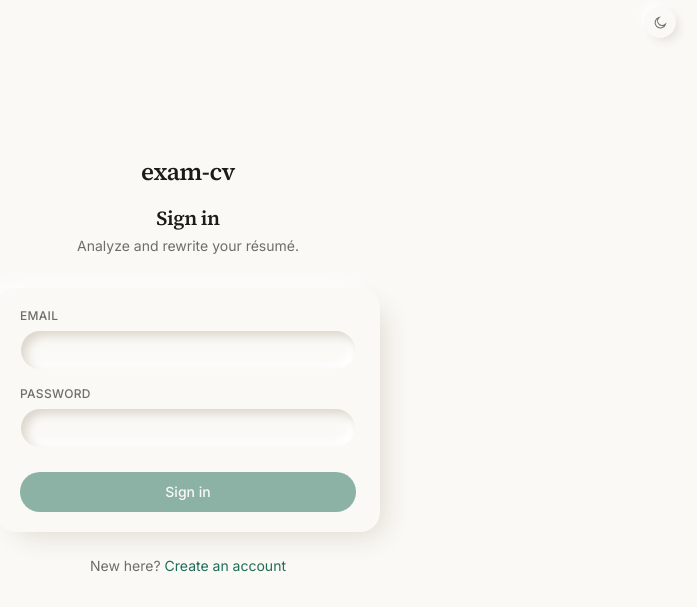
Login › shows the rejection message when credentials are invalid
Type "ada@example.com" into the field labelled "Email" at [188, 350], box [20,330,356,370]
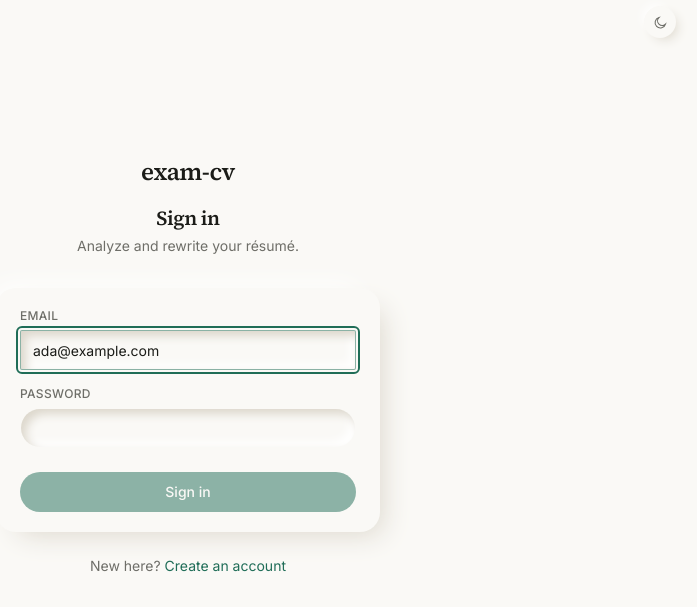
Type "wrong" into the password field labelled "Password" at [188, 428], box [20,408,356,448]
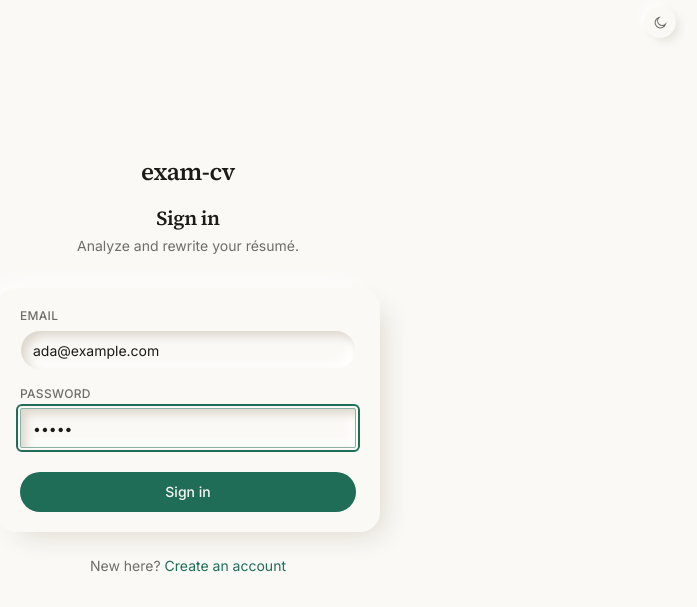
Click the button "Sign in" at [188, 492], box [20,472,356,512]
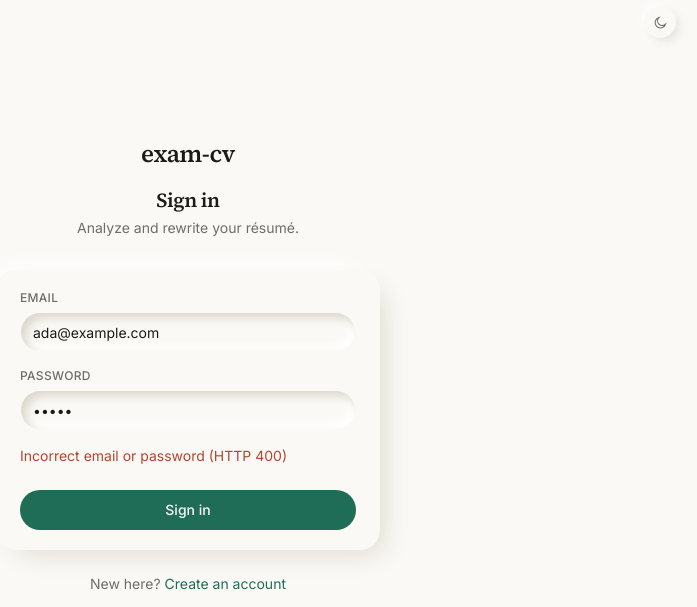
Expected: the message reads "Incorrect email or password (HTTP 400)", [20,447,287,464]
